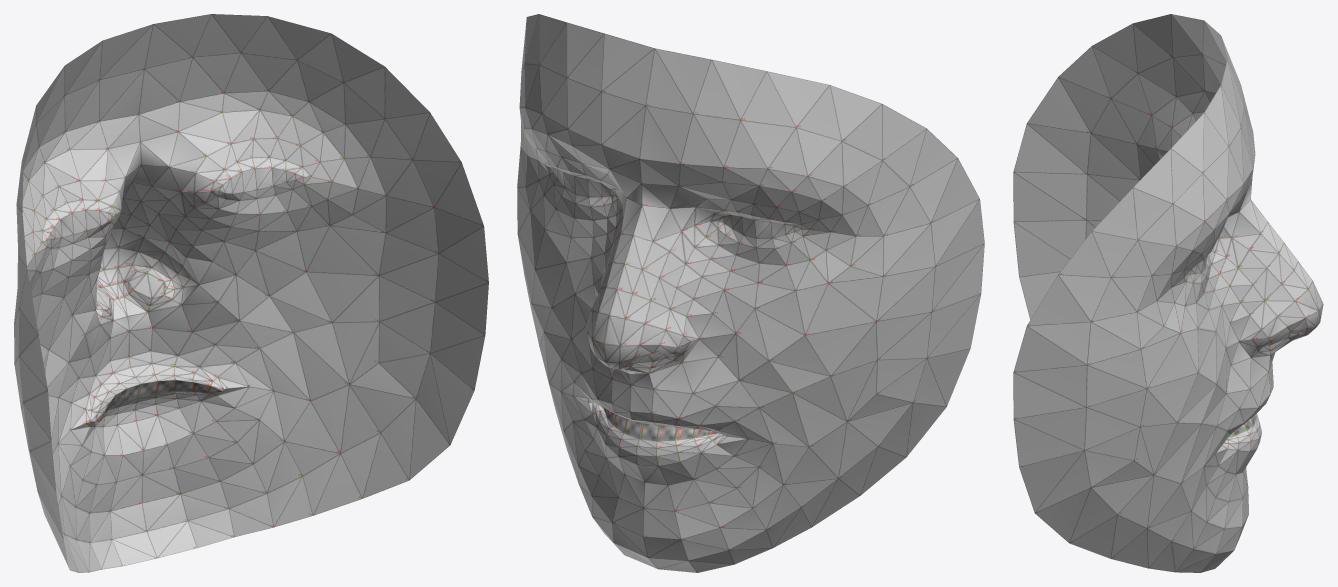
The picture shows the model from 3 angles, left to right: view 1: azimuth 30°, elevation 25°; view 2: azimuth 150°, elevation 25°; view 3: azimuth 270°, elevation 25°; orthographic projection. The views are drawn at different scales.
Parts seen in each view (by area): view 1: 468_tris; view 2: 468_tris; view 3: 468_tris.
Boxes of the visible parts, x1,y1,x2,y2 form: 468_tris: [14, 14, 488, 572]; 468_tris: [517, 14, 984, 572]; 468_tris: [1013, 14, 1323, 572].
Bounding box in the file's own units: 15.49 × 17.67 × 10.02.
Materials: 1 (1 with a texture image).
